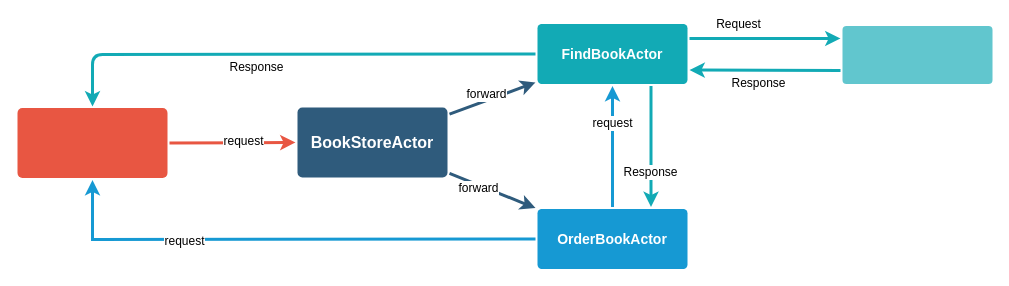
This 1009x286 diagram has some shape labels left out. The shapes that lost their labels are listed below. From the top down, each one's centre as x and y in pixels, then its label:
At pixel 917 55: "DBSearchActor".
At pixel 92 143: "ClientActor".
